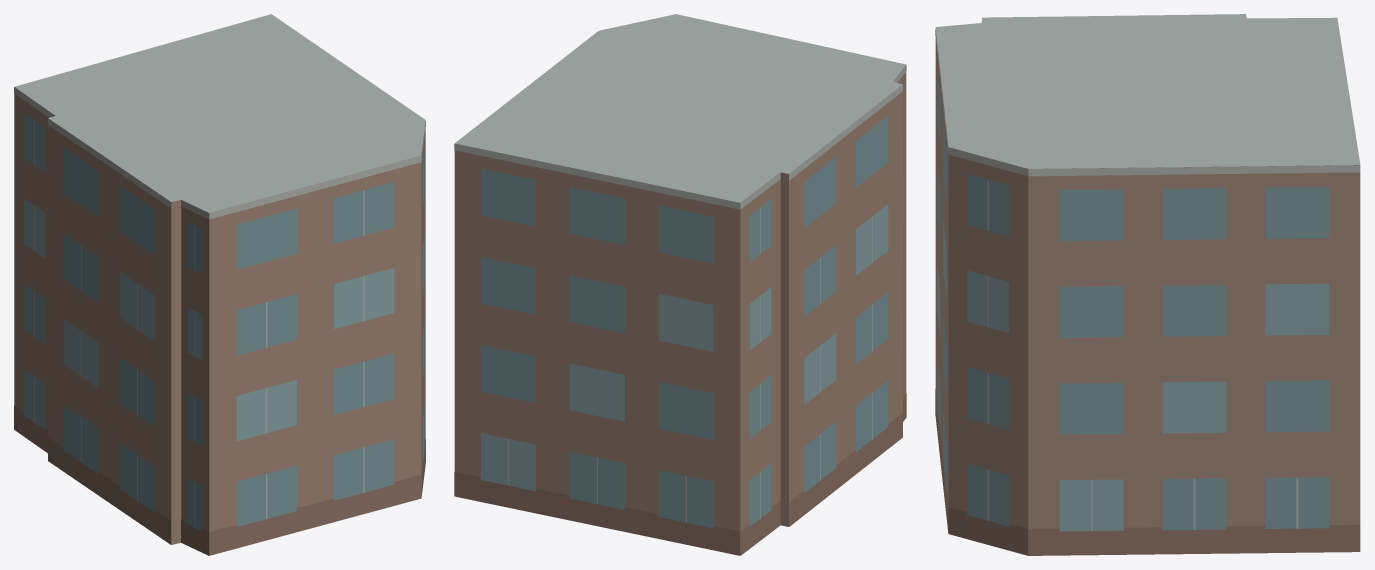
The model's file is survey-upis-32589534.glb.
3 views of the same model, side by side, from view 1: azimuth 30°, elevation 25°; view 2: azimuth 150°, elevation 25°; view 3: azimuth 270°, elevation 25° (orthographic). The views are drawn at different scales.
Visible parts, largest first — view 1: survey-upis-32589534.tmp; view 2: survey-upis-32589534.tmp; view 3: survey-upis-32589534.tmp.
Boxes of the visible parts, left/top/right/bottom form: survey-upis-32589534.tmp: left=14, top=14, right=425, bottom=555; survey-upis-32589534.tmp: left=454, top=14, right=906, bottom=555; survey-upis-32589534.tmp: left=935, top=14, right=1360, bottom=555.
Size of the model in its own units: 10.92 by 12.7 by 12.65.
